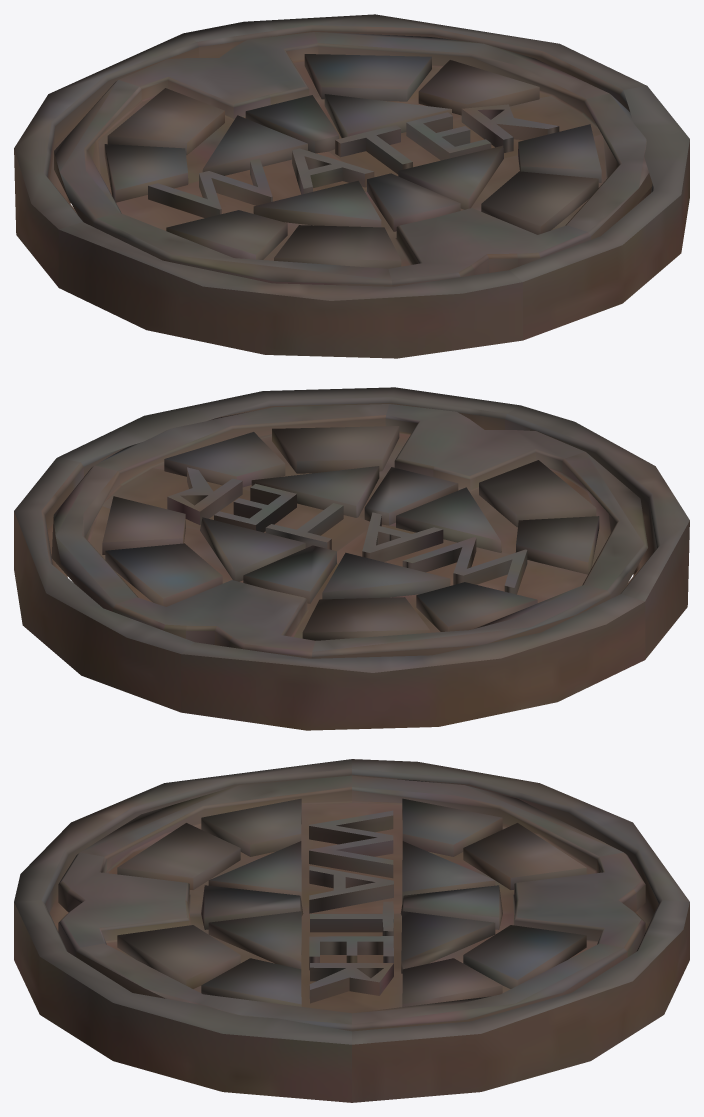
Rendered from water_manhole_cover_lod2.glb.
3 renders of one model, top to bottom at view 1: azimuth 30°, elevation 25°; view 2: azimuth 150°, elevation 25°; view 3: azimuth 270°, elevation 25°, orthographic.
Parts seen in each view (by area): view 1: water_manhole_cover_frame; view 2: water_manhole_cover_frame; view 3: water_manhole_cover_frame.
Boxes of the visible parts, box(x1,y1,x2,y2) form: water_manhole_cover_frame: box(14, 14, 689, 358); water_manhole_cover_frame: box(14, 387, 689, 730); water_manhole_cover_frame: box(14, 759, 689, 1102).
Size of the model in its own units: 0.6908 by 0.0676 by 0.6908.
Materials: 1 (1 with a texture image).
